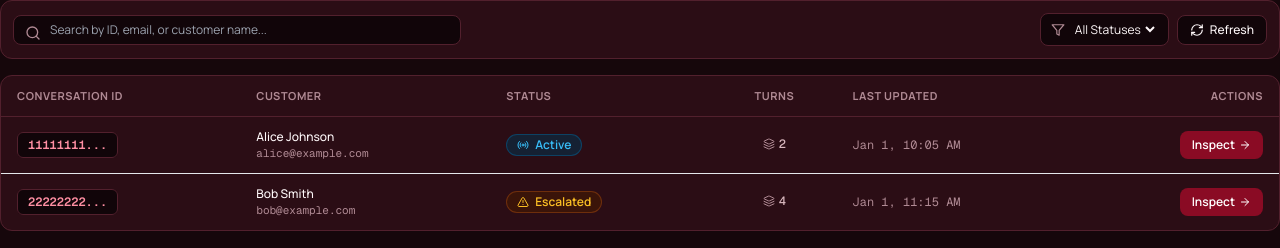
Scenario: ConversationTable › filters rows when selecting a status in dropdown
The width and height of the screenshot is (1280, 248).
Select "Escalated" in the dropdown with test id "status-filter-select" at (1114,30), box 1071,20 -> 1158,39
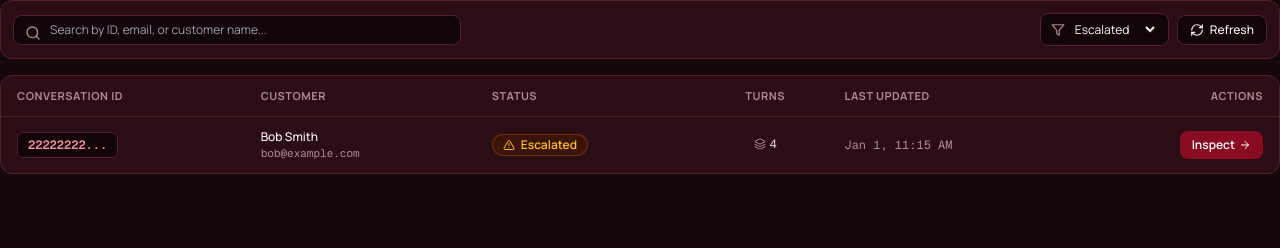
Expected: the text "Bob Smith" is shown, 261,128 -> 318,145
Now the text "Alice Johnson" is gone
